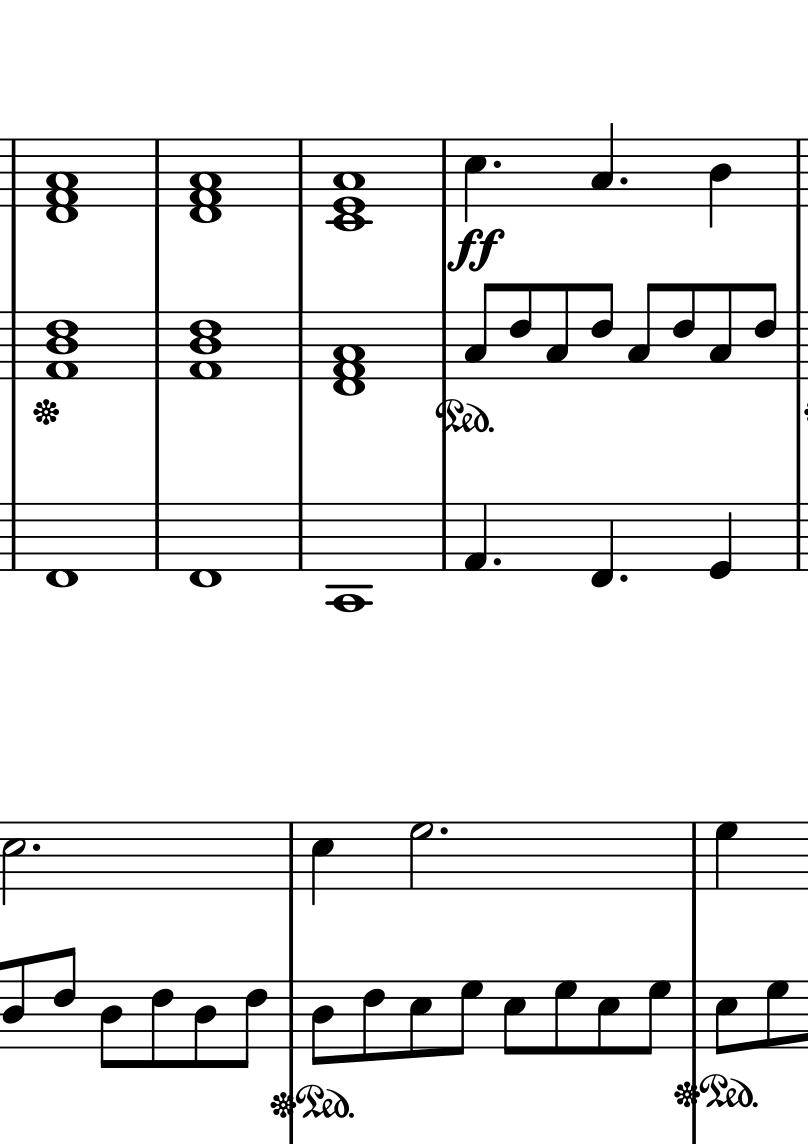1_-1: (45, 500, 79, 592), (188, 500, 222, 592)
1_-4: (328, 501, 369, 613)
1_th: (329, 136, 374, 229), (188, 134, 226, 223), (332, 308, 370, 396), (45, 134, 82, 223), (189, 308, 225, 381), (46, 307, 81, 381)
2_5: (1, 819, 28, 906)
2_7: (408, 820, 436, 891)
4_-1: (589, 500, 616, 589)
4_0: (707, 501, 734, 582)
4_1: (463, 501, 490, 573)
4_3: (590, 122, 616, 209)
4_4: (708, 138, 733, 230)
4_5: (463, 135, 488, 225), (311, 819, 335, 909)
4_7: (713, 820, 740, 893)
8_3: (462, 282, 497, 383), (626, 282, 660, 382), (544, 282, 571, 382), (708, 282, 735, 382)
8_4: (192, 978, 218, 1072), (98, 978, 124, 1071), (2, 956, 27, 1051), (311, 977, 336, 1067)
8_5: (408, 978, 433, 1061), (502, 979, 527, 1058), (596, 978, 621, 1057), (714, 978, 739, 1057)
8_6: (234, 979, 270, 1069), (51, 944, 77, 1052), (752, 280, 778, 384), (507, 280, 533, 383), (671, 280, 696, 384), (589, 281, 614, 383), (149, 977, 175, 1072), (361, 977, 386, 1064)
8_7: (451, 979, 484, 1056), (640, 979, 672, 1055), (552, 980, 579, 1055), (765, 980, 790, 1049)
Single_barline: (146, 139, 169, 207), (290, 312, 313, 379), (290, 139, 312, 207), (147, 312, 169, 379), (147, 503, 168, 571), (4, 312, 24, 380), (4, 140, 24, 207), (435, 140, 455, 207), (435, 312, 455, 379), (291, 503, 311, 570), (435, 503, 455, 570), (283, 823, 302, 891), (282, 980, 301, 1048), (685, 981, 704, 1049), (4, 503, 23, 570), (686, 823, 705, 890), (791, 312, 808, 380), (791, 140, 808, 206), (790, 504, 807, 570)
dot: (489, 156, 504, 172), (29, 840, 43, 855), (617, 571, 631, 584), (437, 823, 450, 837), (617, 173, 629, 187), (491, 555, 503, 568)
ff: (445, 223, 507, 272)
